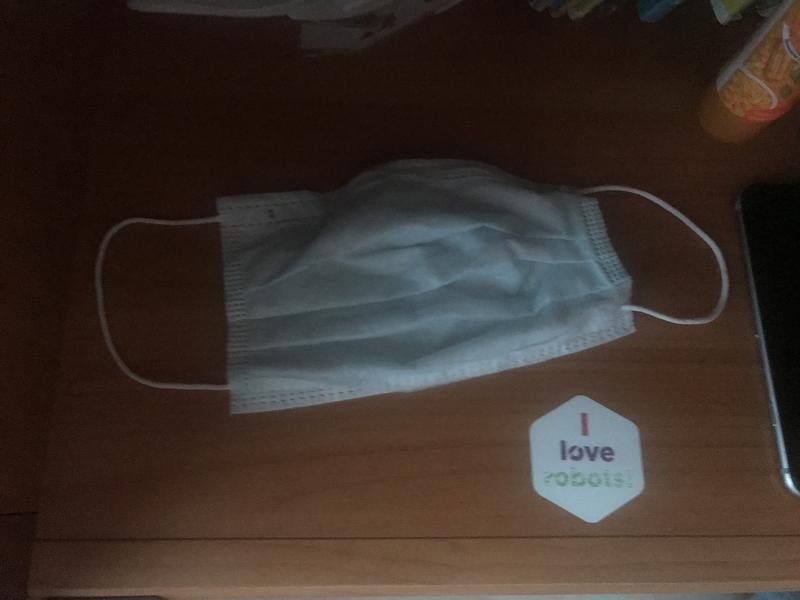medical_mask: (93, 163, 728, 408)
